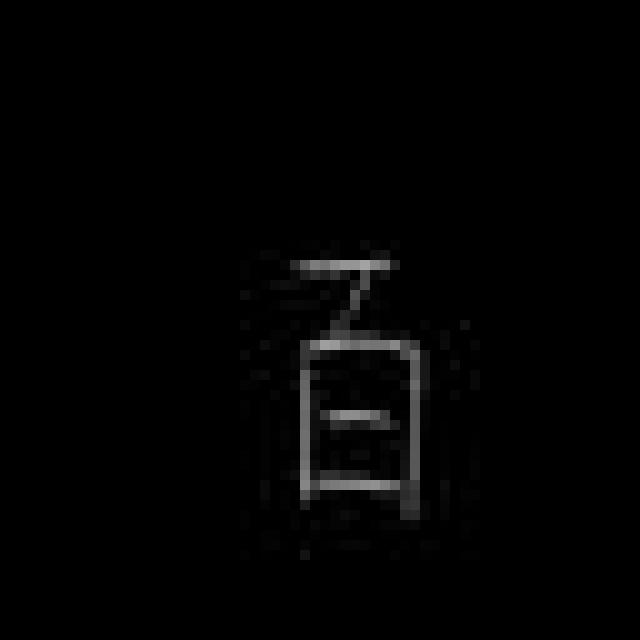100 -a hundred-: (270, 245, 438, 515)
